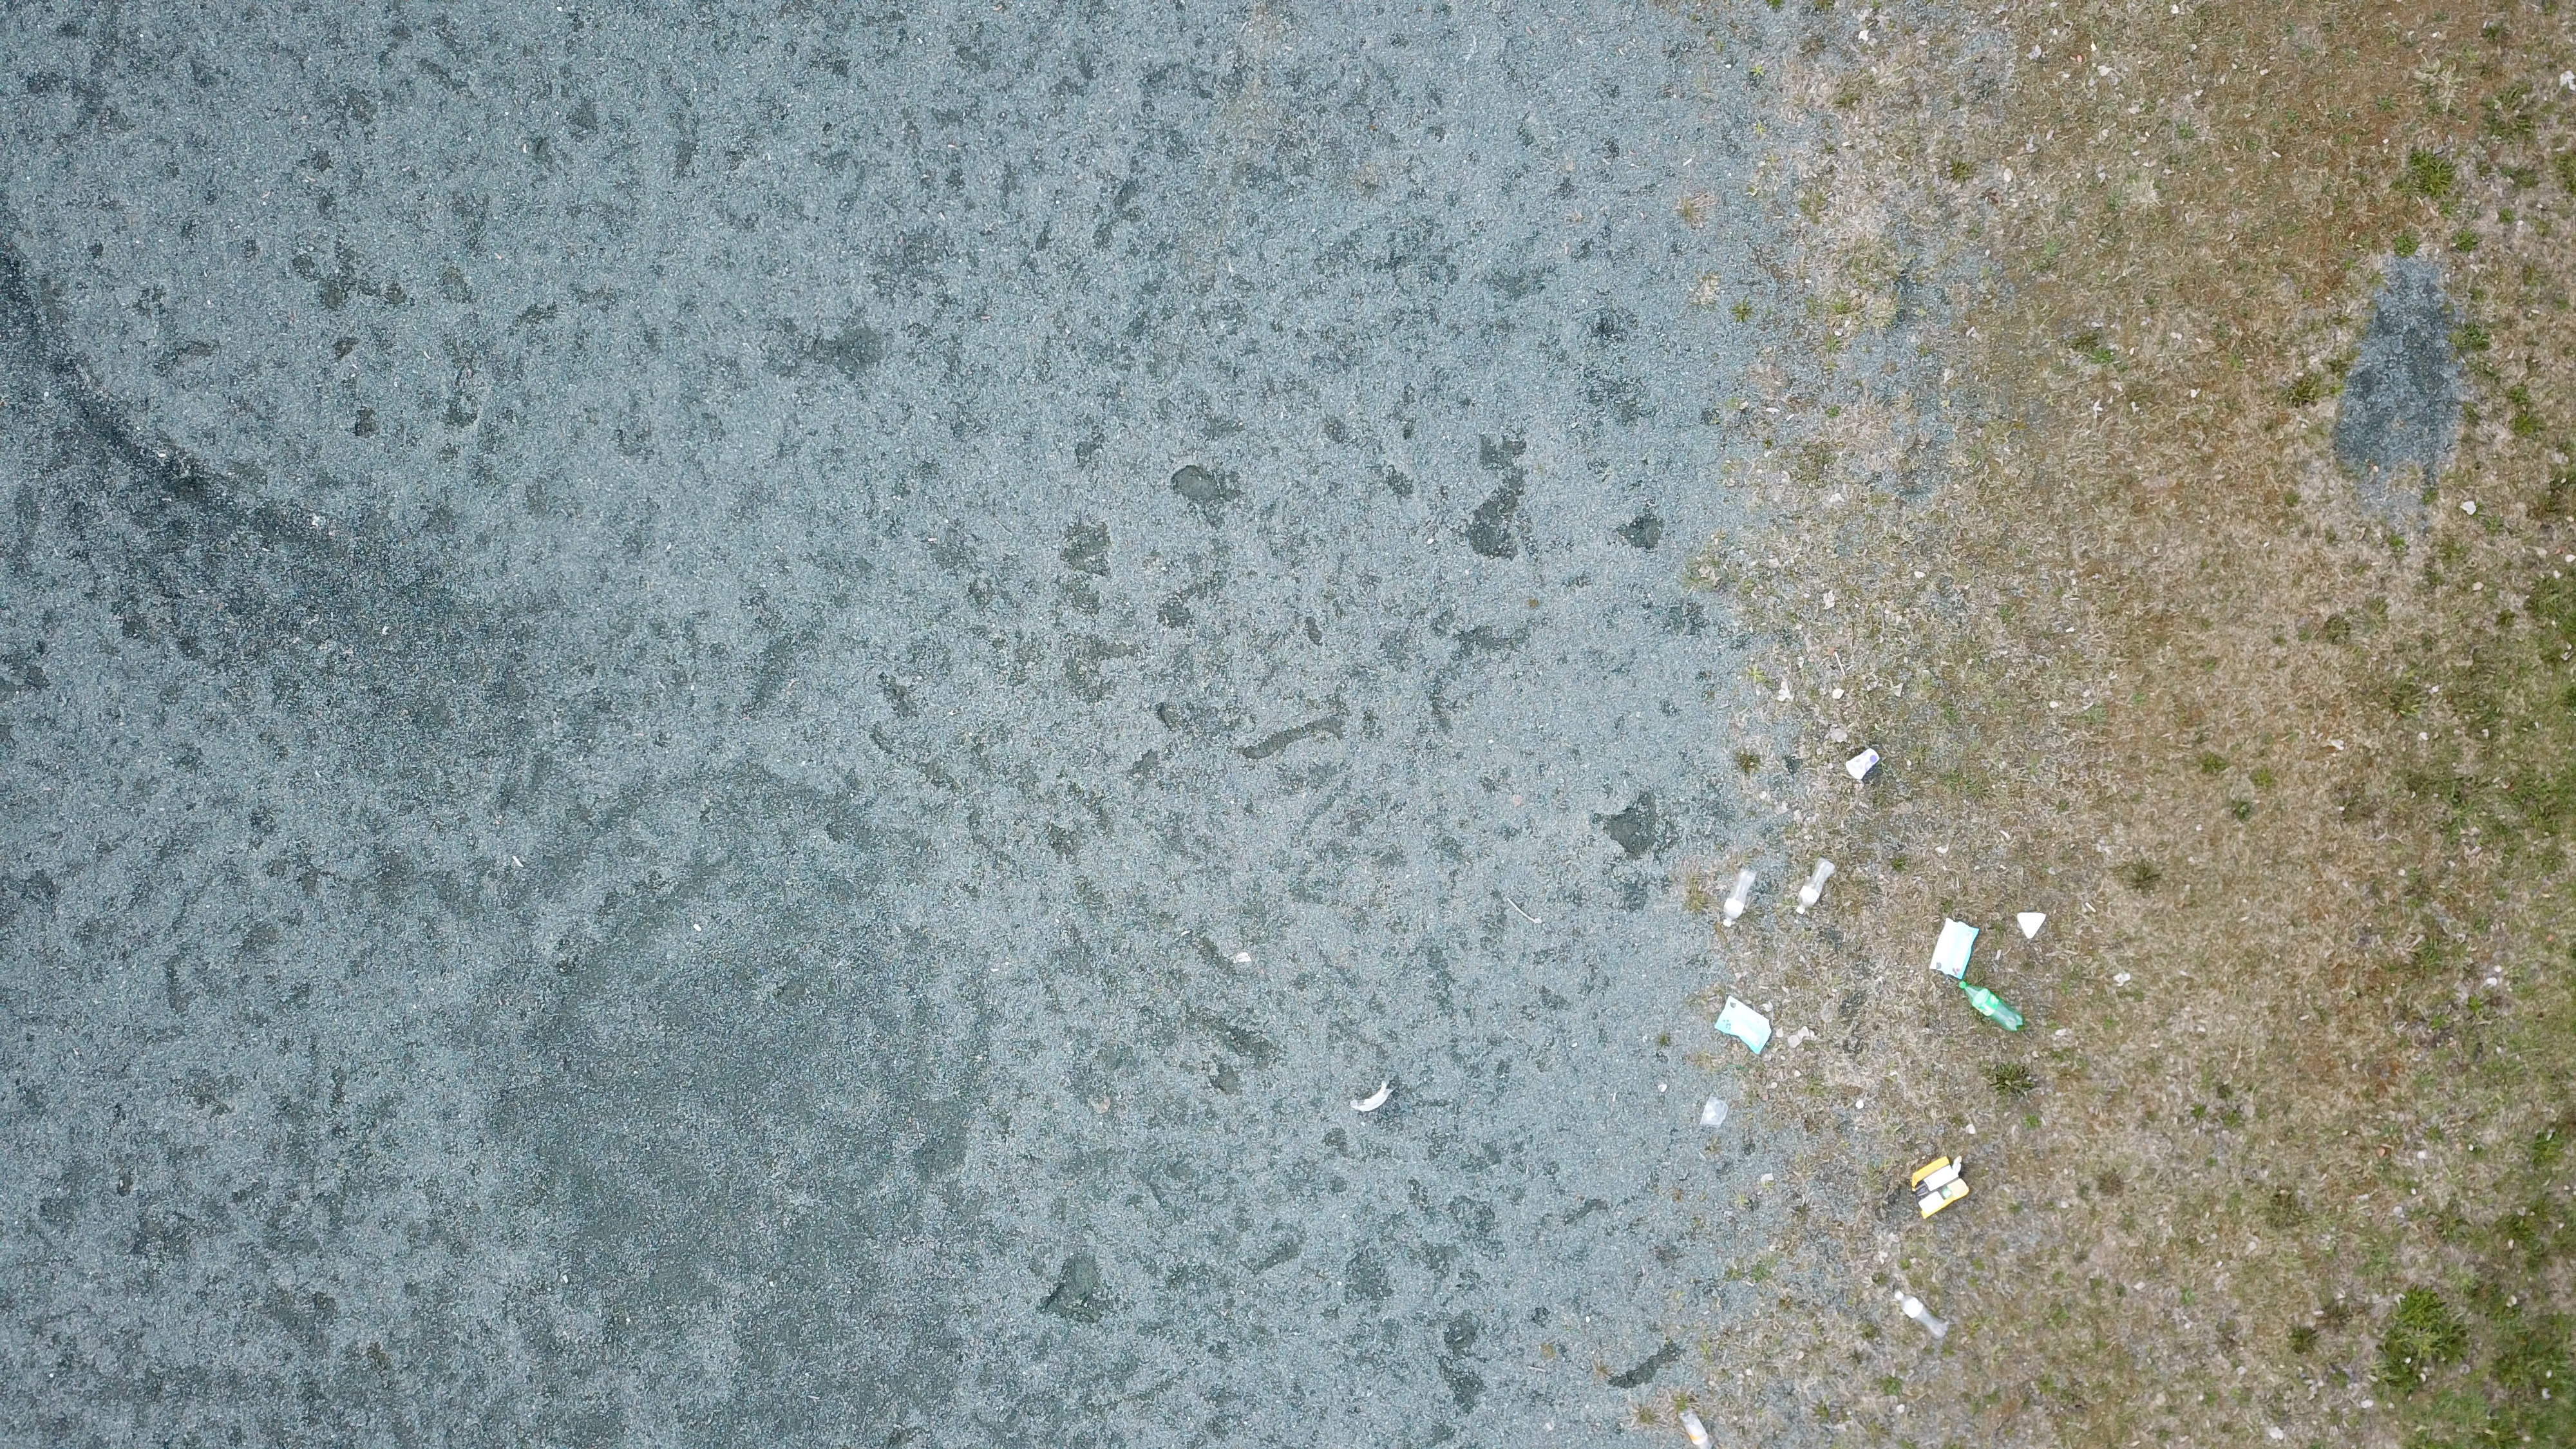Plastic: (1907, 1155, 1971, 1221), (1714, 994, 1771, 1058), (1927, 918, 1982, 980), (1348, 1083, 1392, 1115), (1844, 750, 1881, 784), (1697, 1097, 1729, 1129), (2017, 911, 2047, 939)
PlasticBottle: (1953, 980, 2028, 1037), (1891, 1290, 1951, 1343), (1794, 856, 1835, 918), (1721, 867, 1755, 931), (1677, 1408, 1720, 1449)
